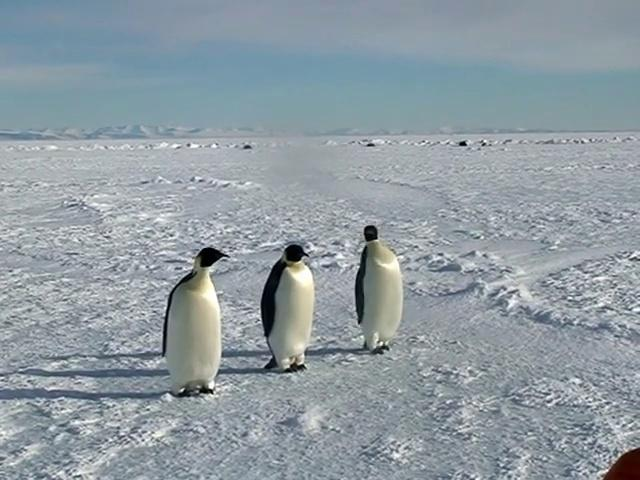animal: (356, 226, 404, 355)
